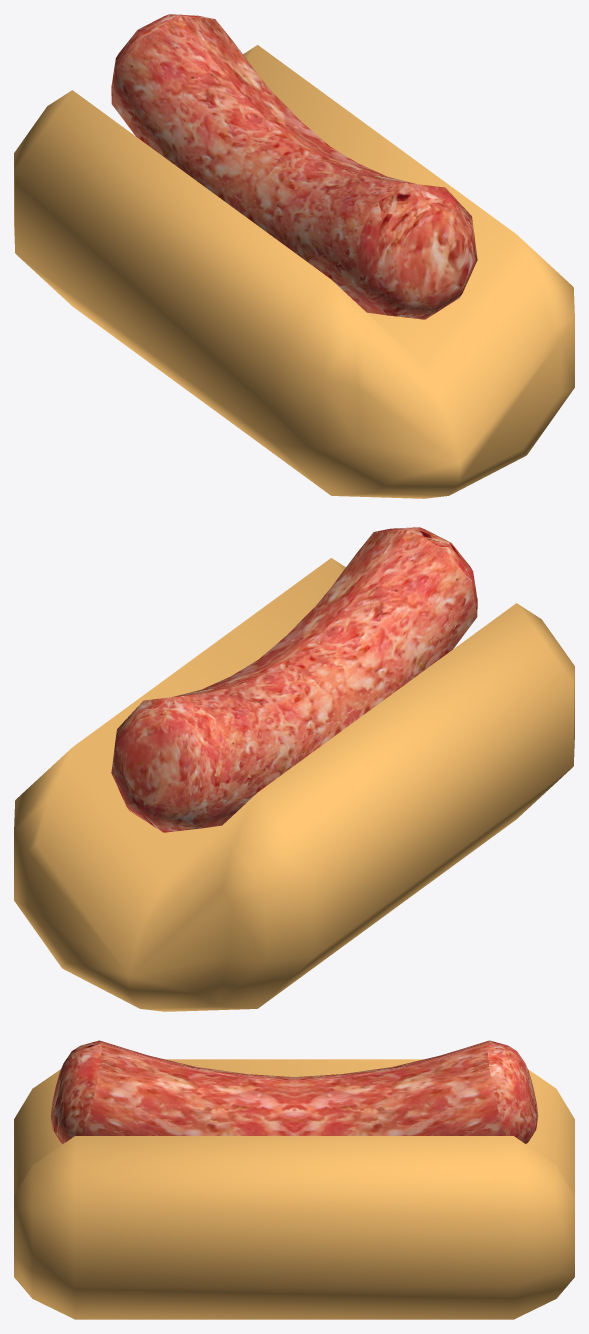
Rendered from hot dog.fbx.
3 renders of one model, top to bottom at view 1: azimuth 30°, elevation 25°; view 2: azimuth 150°, elevation 25°; view 3: azimuth 270°, elevation 25°, orthographic. The views are drawn at different scales.
Parts seen in each view (by area): view 1: Cylinder; view 2: Cylinder; view 3: Cylinder.
Boxes of the visible parts, x1=… form: Cylinder: x1=14, y1=14, x2=574, y2=498; Cylinder: x1=14, y1=527, x2=574, y2=1011; Cylinder: x1=14, y1=1040, x2=574, y2=1319.
Size of the model in its own units: 159 by 154 by 303.
